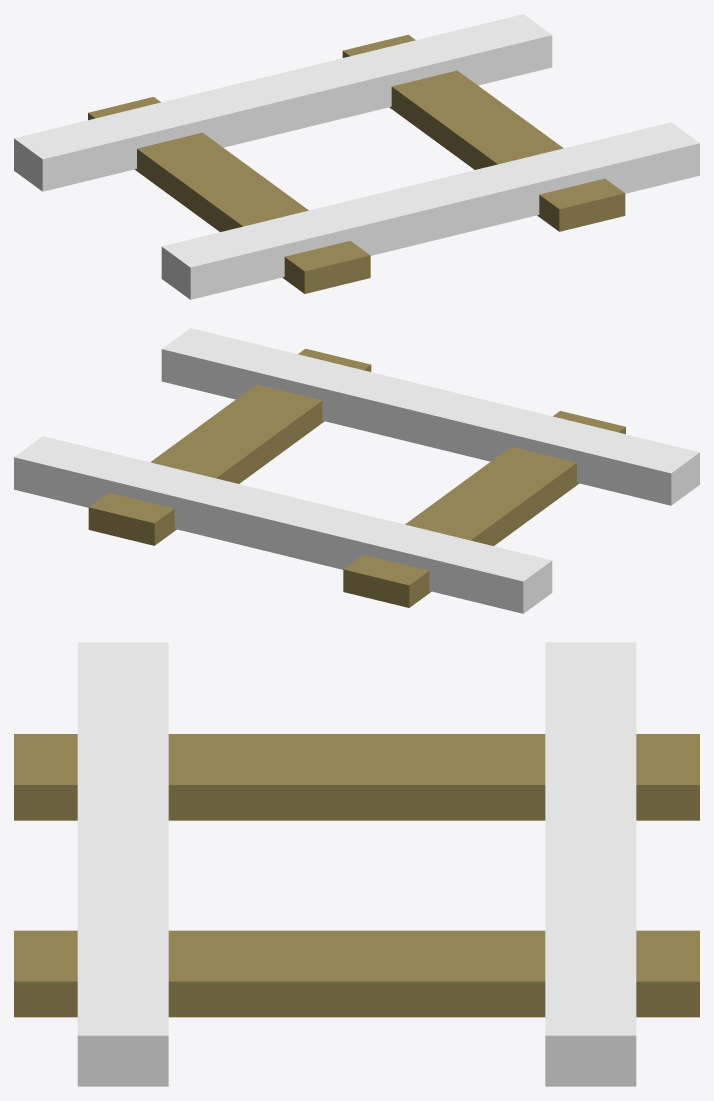
Rendered from quaternius-cube-world-rail-straight.glb.
3 renders of one model, top to bottom at view 1: azimuth 30°, elevation 25°; view 2: azimuth 150°, elevation 25°; view 3: azimuth 270°, elevation 25°, orthographic. The views are drawn at different scales.
Visible parts, largest first — view 1: Rail_Straight; view 2: Rail_Straight; view 3: Rail_Straight.
Boxes of the visible parts, x1=… form: Rail_Straight: x1=14, y1=14, x2=699, y2=299; Rail_Straight: x1=14, y1=328, x2=699, y2=613; Rail_Straight: x1=14, y1=642, x2=699, y2=1086.
Size of the model in its own units: 2 by 0.1304 by 1.47.
2 materials, 1 textured.
